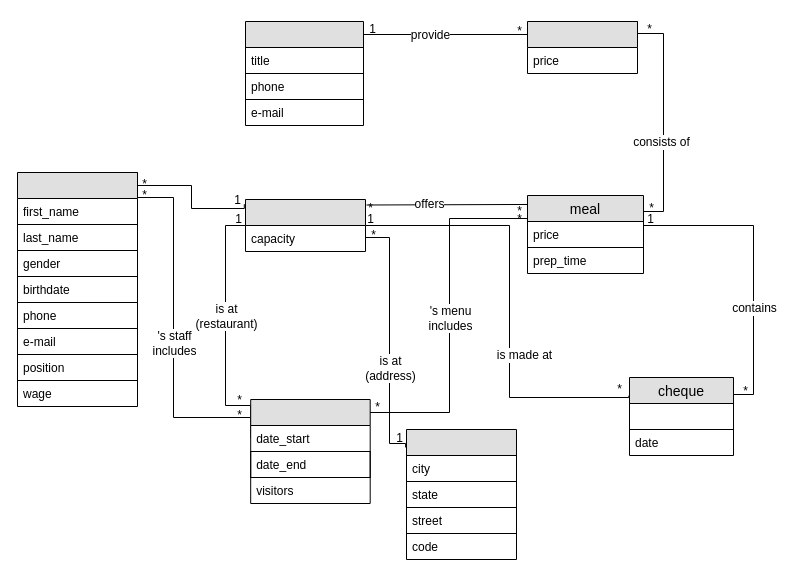
This 794x579 diagram has some shape labels left out. The box of each missing label's shape, as (x1, y1, x2, y2) in pixels:
amount: (628, 402, 734, 430)
employee: (16, 172, 138, 406)
product: (526, 20, 638, 74)
reservation: (250, 398, 370, 504)
restaurant: (244, 198, 366, 252)
supplier: (244, 20, 364, 126)
zip: (406, 428, 516, 560)
